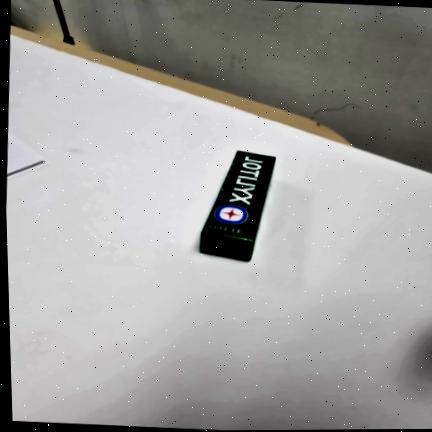gum_green: (200, 151, 275, 261)
